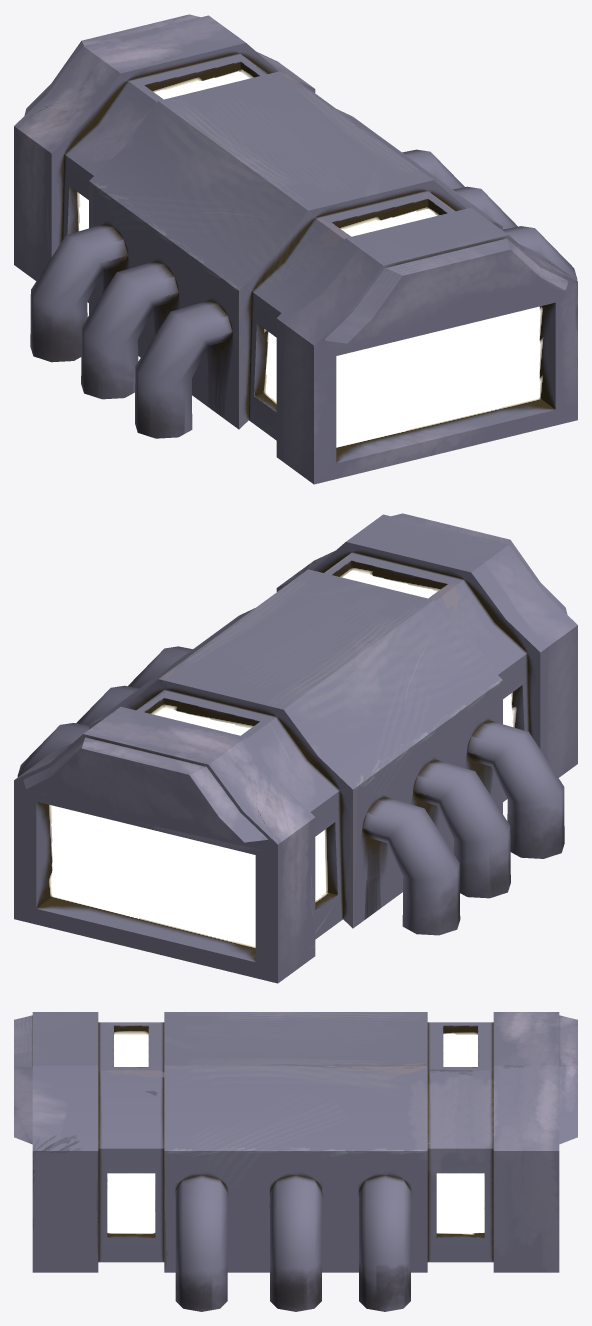
File: Generator.fbx
The picture shows the model from 3 angles, top to bottom: view 1: azimuth 30°, elevation 25°; view 2: azimuth 150°, elevation 25°; view 3: azimuth 270°, elevation 25°; orthographic projection. The views are drawn at different scales.
Visible parts, largest first — view 1: Generator; view 2: Generator; view 3: Generator.
Part boxes in pixels (x1=…): Generator: x1=14, y1=14, x2=577, y2=484; Generator: x1=14, y1=513, x2=577, y2=983; Generator: x1=14, y1=1012, x2=577, y2=1311.
Size of the model in its own units: 1003 by 443 by 1276.
